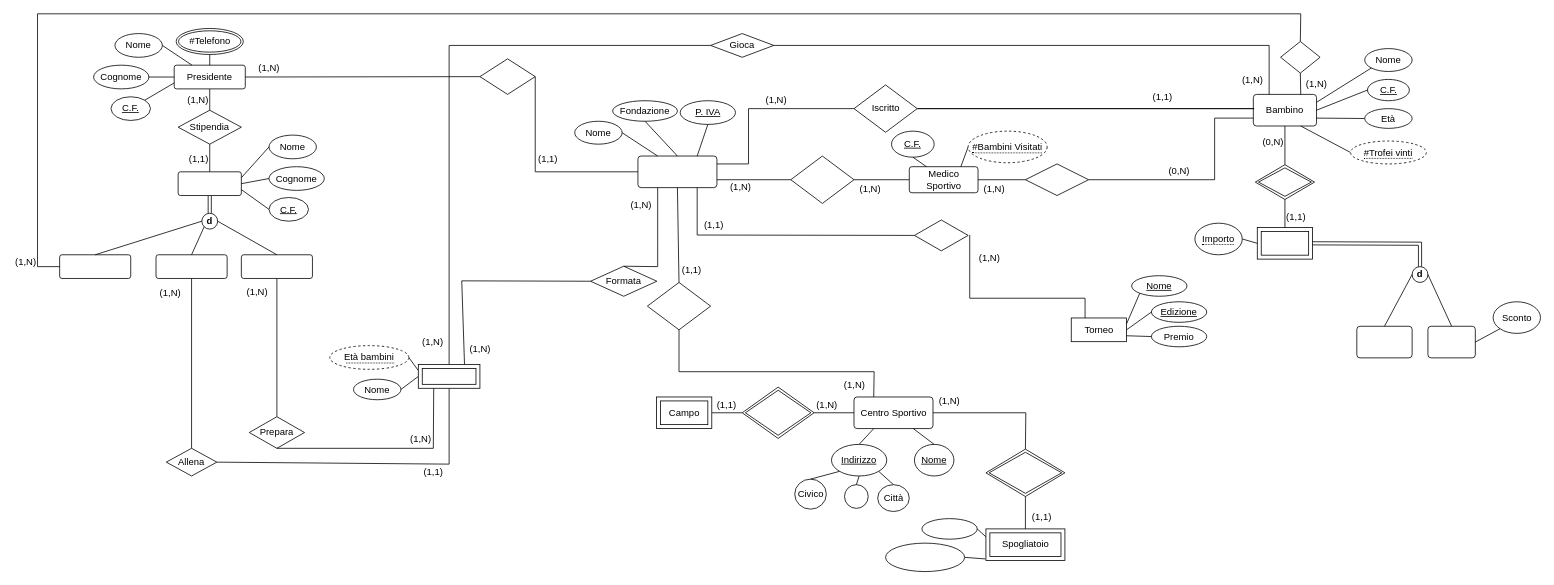
The diagram is 1554 pixels wide and 585 high, and some of its shapes have lost their labels. The shapes that lost their labels are listed below. From the top down, each one's box as (x1, y1, x2, y2) in pixels, then its label:
(479, 58, 535, 94): Possiede
(1280, 41, 1320, 73): Cura
(177, 171, 241, 196): Dipendenti
(637, 155, 717, 188): Scuola Calcio
(790, 155, 854, 203): Collabora
(1025, 163, 1089, 196): Visita
(1255, 164, 1315, 199): Paga
(914, 219, 968, 251): Vince
(1256, 227, 1313, 259): Retta
(59, 254, 131, 278): Fisioterapista
(155, 254, 227, 278): Allenatore
(241, 254, 312, 278): Preparatore Atletico
(647, 282, 711, 330): Utilizza
(1356, 325, 1412, 358): Mensile
(1427, 325, 1475, 358): Annuale
(418, 364, 480, 388): Squadra
(741, 386, 814, 438): è composto
(985, 448, 1065, 497): Dispone di
(844, 484, 868, 508): Via
(921, 518, 977, 539): #docce
(885, 542, 965, 572): Id Spogliatoio
